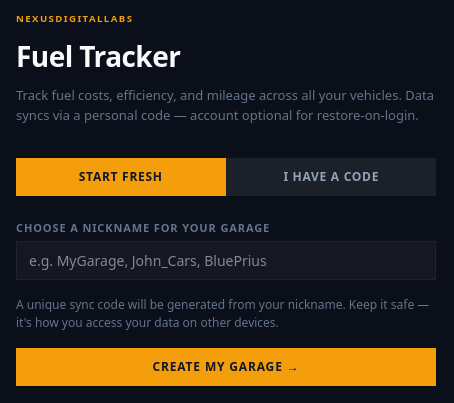
Test: FuelTrackerClient — "I Have a Code" flow › switches to the existing code input when "I Have a Code" is clicked
This screenshot has width=454, height=403.
Click the button "I Have a Code": (331, 177) [226, 158, 436, 196]
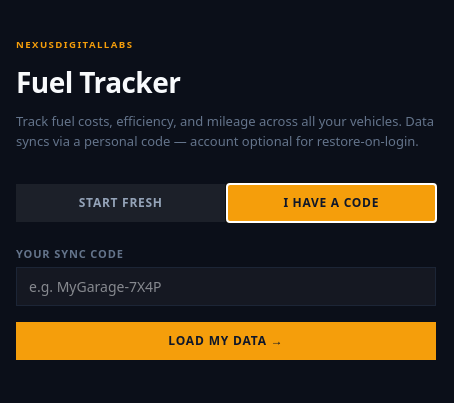
Check: the button "Load My Data →" is shown, box [16, 322, 436, 360]
